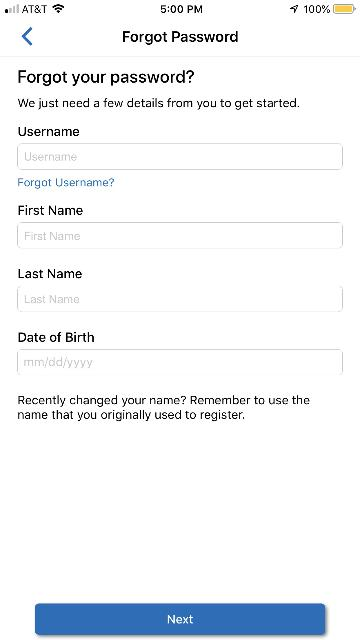EditText: (17, 349, 342, 375), (17, 286, 342, 312), (17, 222, 342, 248), (17, 143, 342, 169)
Icon: (22, 27, 32, 46)
Text: (18, 395, 310, 421), (17, 98, 298, 110), (19, 70, 194, 86), (122, 31, 238, 45), (18, 178, 114, 188), (18, 332, 94, 342), (24, 358, 92, 368), (18, 205, 82, 215), (19, 126, 79, 136), (19, 270, 82, 278), (24, 232, 80, 240), (25, 295, 79, 303), (25, 153, 77, 161), (168, 614, 192, 624)
TextButton: (35, 604, 325, 634)
Toolbar: (0, 15, 360, 56)
UpperTaskBar: (0, 0, 360, 14)
